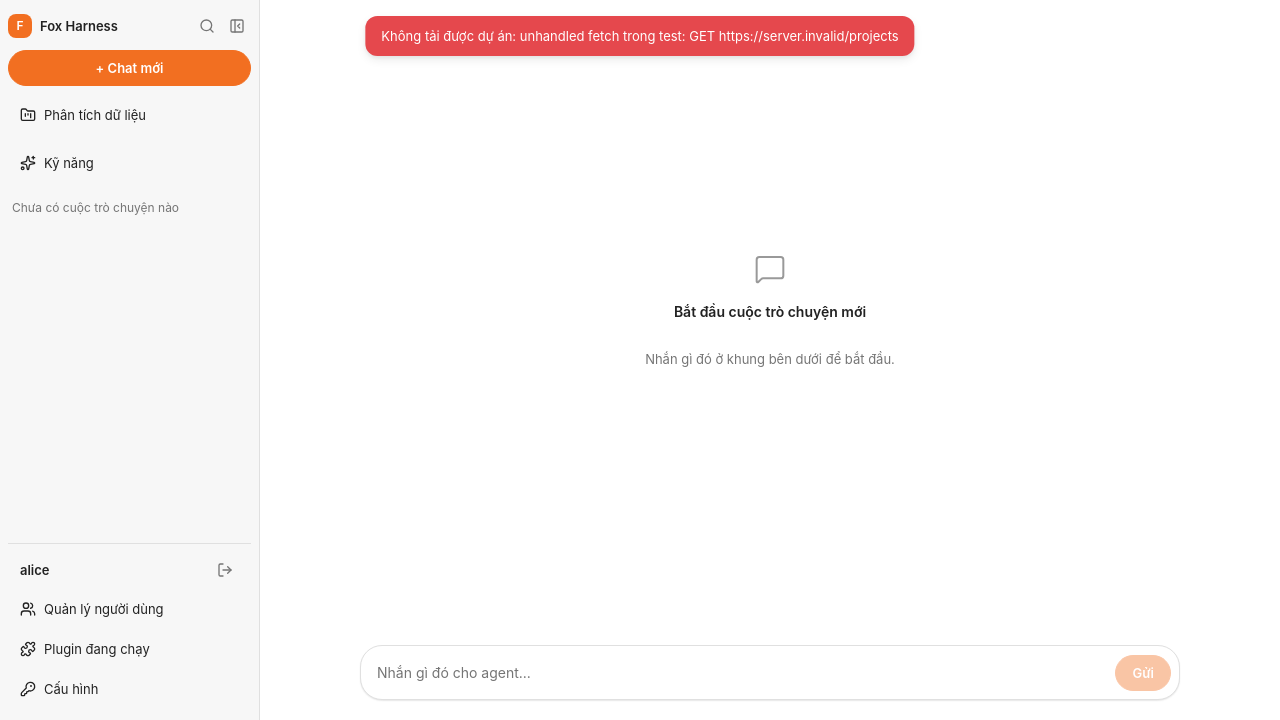
Phase 9.4 — App smoke test › luồng gửi tin nhắn đầu tiên (REST tạo session, WS chỉ subscribe) › tool_call có toolUi.summaryArg -> hiện query dạng trích dẫn, không phải raw JSON
The image size is (1280, 720).
Type "bắt đầu" into the text box with placeholder "Nhắn gì đó cho agent...". click: coordinates (742, 672)
box: x1=377 y1=654 x2=1108 y2=691
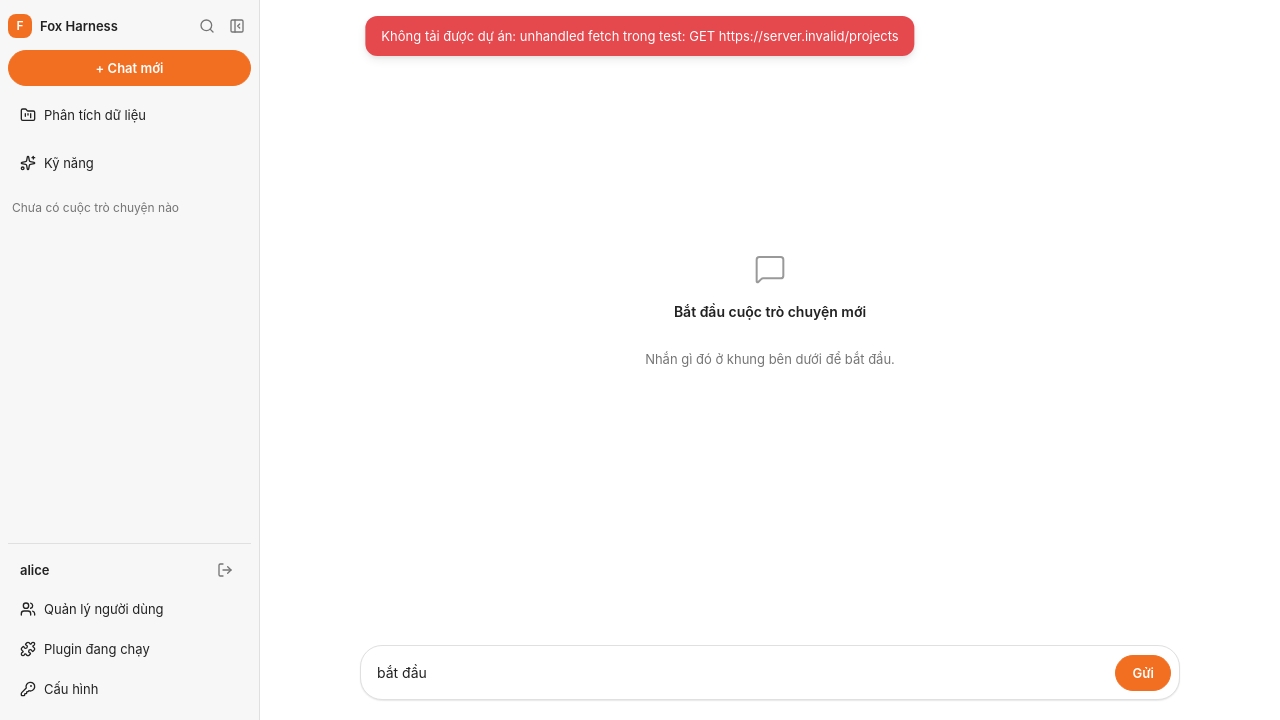
Click the button "Gửi". click: coordinates (1143, 673)
box: x1=1116 y1=655 x2=1171 y2=691
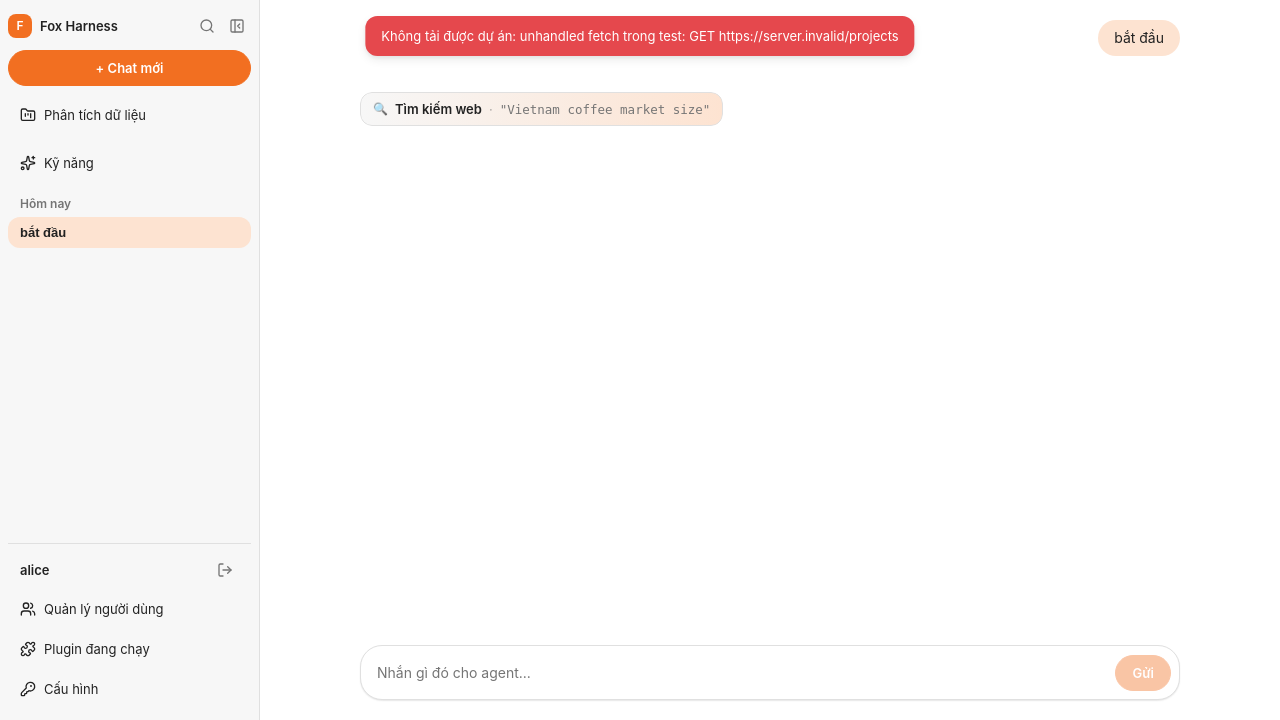
expect the text "\"Vietnam coffee market size\"" is shown: met, box x1=500 y1=102 x2=710 y2=117
